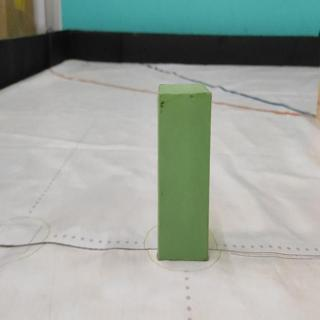greenbox: (158, 84, 211, 262)
